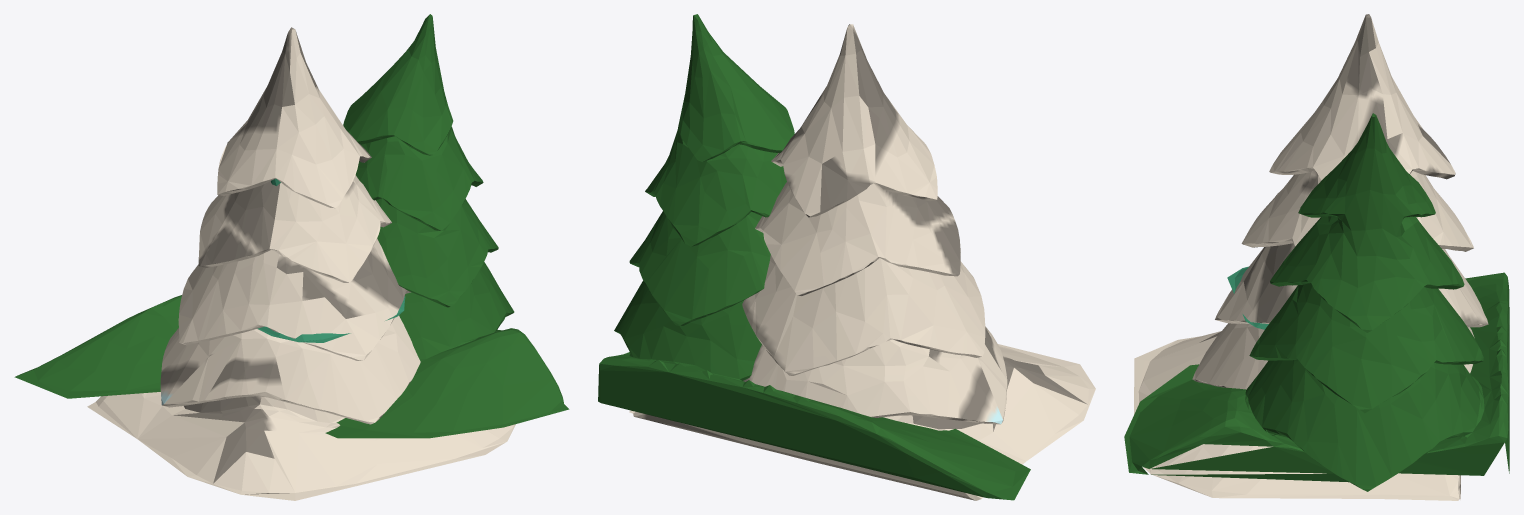
The model's file is pines.glb.
The picture shows the model from 3 angles, left to right: view 1: azimuth 30°, elevation 25°; view 2: azimuth 150°, elevation 25°; view 3: azimuth 270°, elevation 25°; orthographic projection. The views are drawn at different scales.
Parts seen in each view (by area): view 1: pine, pine2, pine3; view 2: pine, pine2; view 3: pine2, pine.
Boxes of the visible parts, left/top/right/bottom form: pine: left=87, top=27, right=515, bottom=500; pine2: left=14, top=14, right=569, bottom=438; pine3: left=257, top=178, right=405, bottom=342; pine: left=629, top=24, right=1095, bottom=500; pine2: left=598, top=14, right=1030, bottom=500; pine2: left=1124, top=113, right=1509, bottom=491; pine: left=1134, top=14, right=1488, bottom=500.
Size of the model in its own units: 2.39 by 1.98 by 1.71.
Materials: 3 (1 with a texture image).
